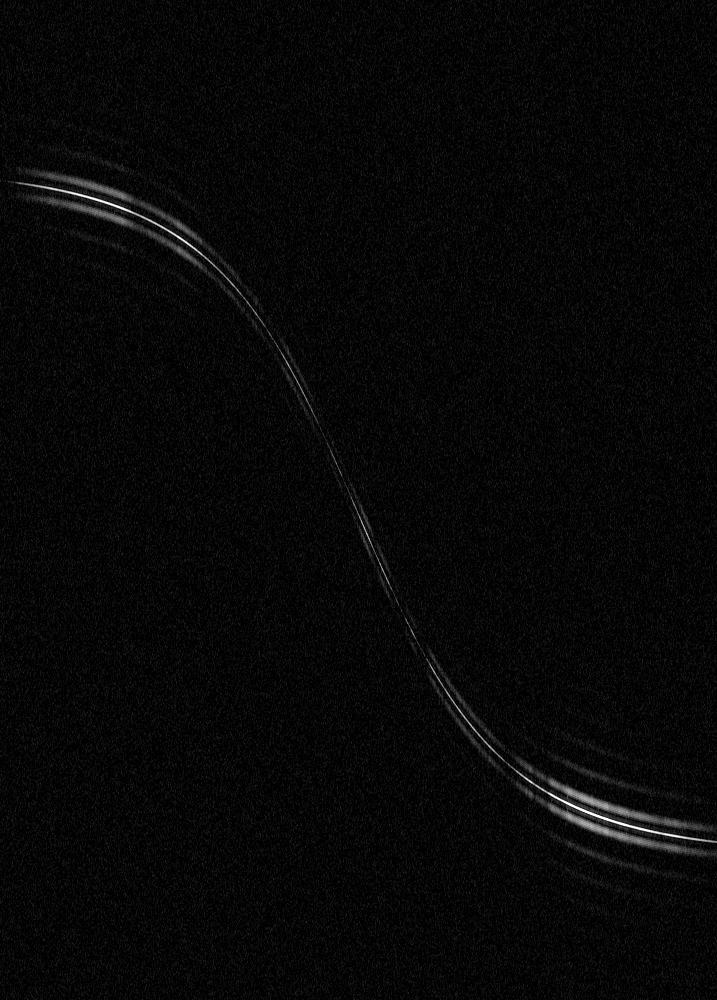signal: (0, 0, 716, 999)
